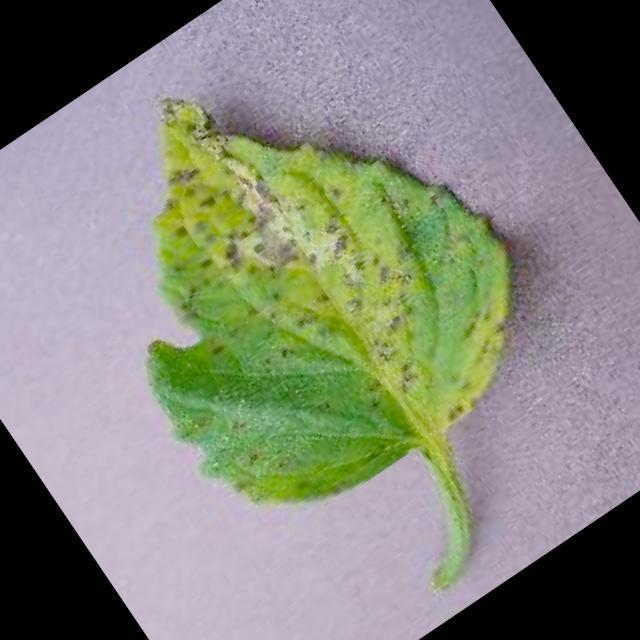Tomato Septoria spot leaf: (14, 0, 574, 560)
